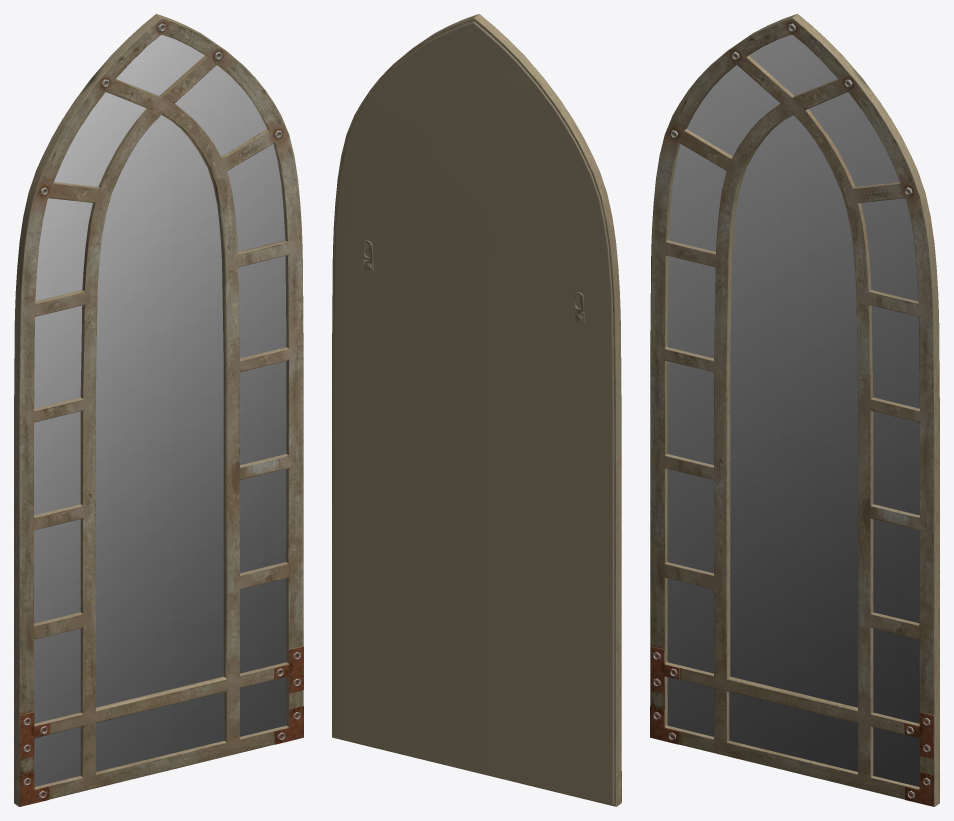
The model's file is B073WGSN2Q.glb.
3 renders of one model, left to right at view 1: azimuth 30°, elevation 25°; view 2: azimuth 150°, elevation 25°; view 3: azimuth 330°, elevation 25°, orthographic.
Parts seen in each view (by area): view 1: RootNode; view 2: RootNode; view 3: RootNode.
Boxes of the visible parts, bbox=[...] form: RootNode: bbox=[14, 14, 303, 806]; RootNode: bbox=[332, 14, 621, 806]; RootNode: bbox=[650, 14, 939, 806].
Size of the model in its own units: 0.4635 by 1.17 by 0.0254.
Materials: 1 (1 with a texture image).
